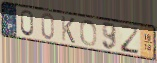0: (40, 12, 55, 41), (20, 10, 35, 38)
9: (101, 21, 117, 52)
K: (61, 15, 76, 46)
O: (79, 19, 98, 47)
Z: (119, 24, 141, 56)
